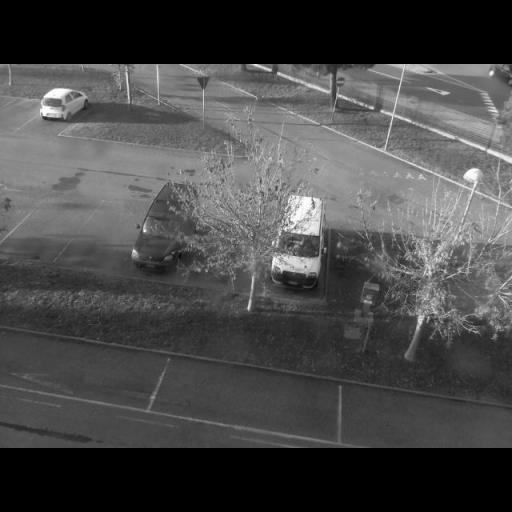busy: (38, 88, 90, 122)
free: (194, 372, 304, 422), (357, 388, 456, 442), (90, 205, 136, 275), (22, 199, 68, 262), (10, 96, 35, 125)
